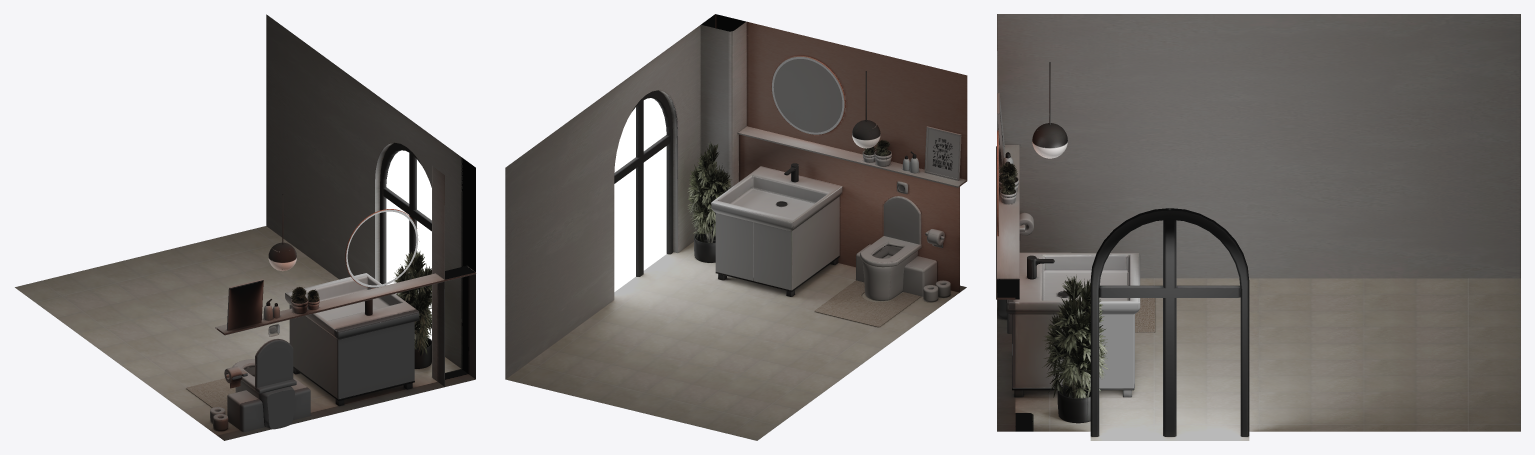
File: modern_bathroom.glb
The picture shows the model from 3 angles, left to right: view 1: azimuth 30°, elevation 25°; view 2: azimuth 150°, elevation 25°; view 3: azimuth 270°, elevation 25°; orthographic projection. The views are drawn at different scales.
Visible parts, largest first — view 1: Bathroom, Tree, Plants; view 2: Bathroom, Tree, Plants; view 3: Bathroom, Tree, Plants.
Boxes of the visible parts, <box> form: Bathroom: <box>15,14,475,440</box>; Tree: <box>394,251,431,368</box>; Plants: <box>291,287,319,313</box>; Bathroom: <box>505,14,967,440</box>; Tree: <box>687,142,731,262</box>; Plants: <box>862,140,891,166</box>; Bathroom: <box>996,14,1520,440</box>; Tree: <box>1042,274,1108,423</box>; Plants: <box>999,162,1018,204</box>.
Bounding box in the file's own units: 3.08 × 2.35 × 4.2.
Materials: 22 (20 with a texture image).
